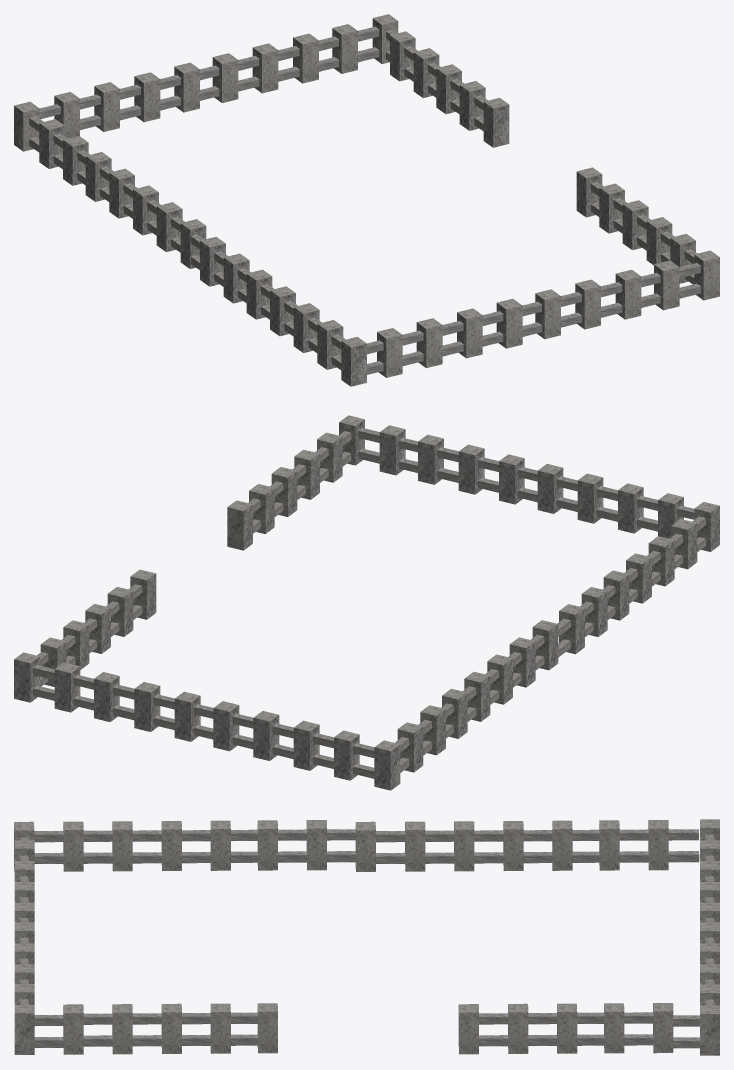
Rendered from graveFence.fbx.
3 renders of one model, top to bottom at view 1: azimuth 30°, elevation 25°; view 2: azimuth 150°, elevation 25°; view 3: azimuth 270°, elevation 25°, orthographic. The views are drawn at different scales.
Visible parts, largest first — view 1: Cube.144; view 2: Cube.144; view 3: Cube.144.
Boxes of the visible parts, x1,y1,x2,y2 form: Cube.144: (14, 14, 719, 386); Cube.144: (14, 415, 719, 790); Cube.144: (14, 819, 719, 1055).
Size of the model in its own units: 1994 by 199 by 3061.
